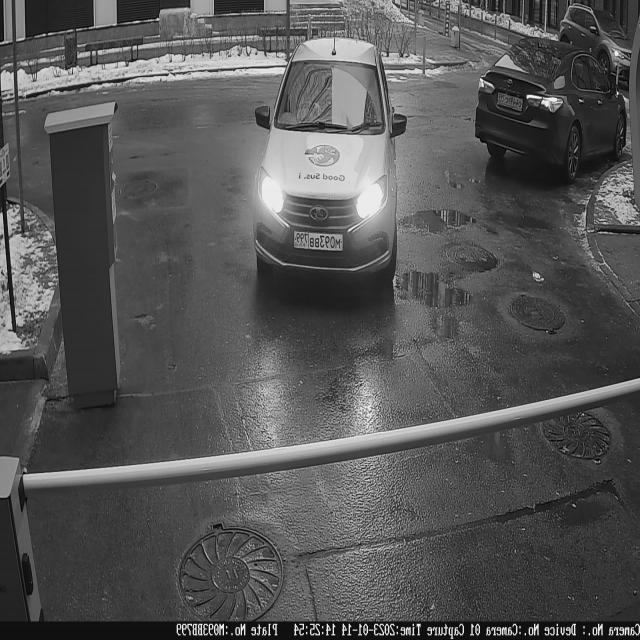car-plate-numbers: (291, 231, 347, 257)
